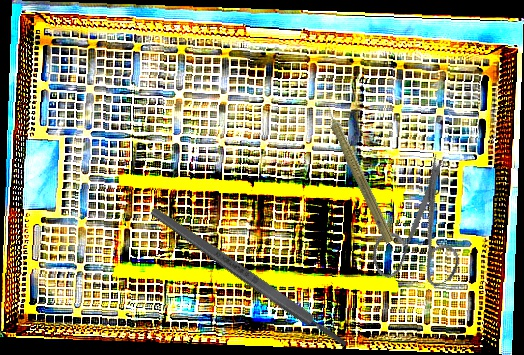Handpiece: (317, 95, 400, 245)
Iris Scissors: (343, 151, 493, 306)
Scalpel Handle: (148, 204, 350, 351)
